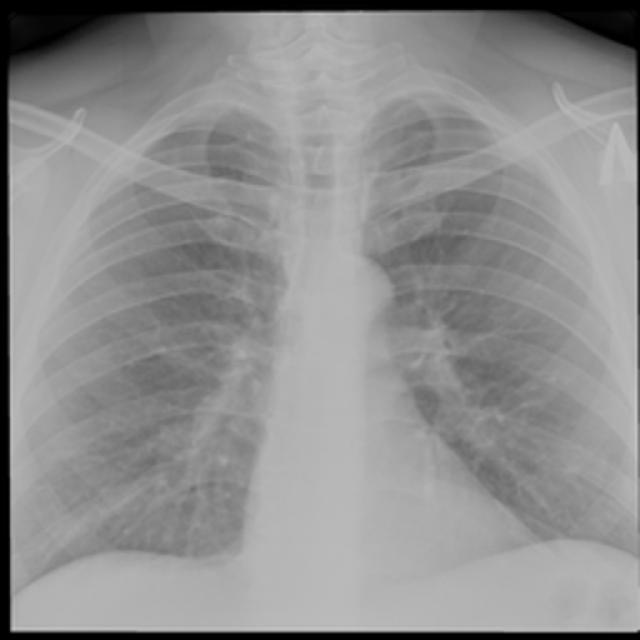abnormalities: (412, 310, 518, 464), (173, 322, 254, 488)
diaphragm: (15, 537, 640, 630)
heart: (244, 246, 541, 604)
left_lobe: (358, 79, 640, 564)
right_lobe: (13, 79, 294, 610)
